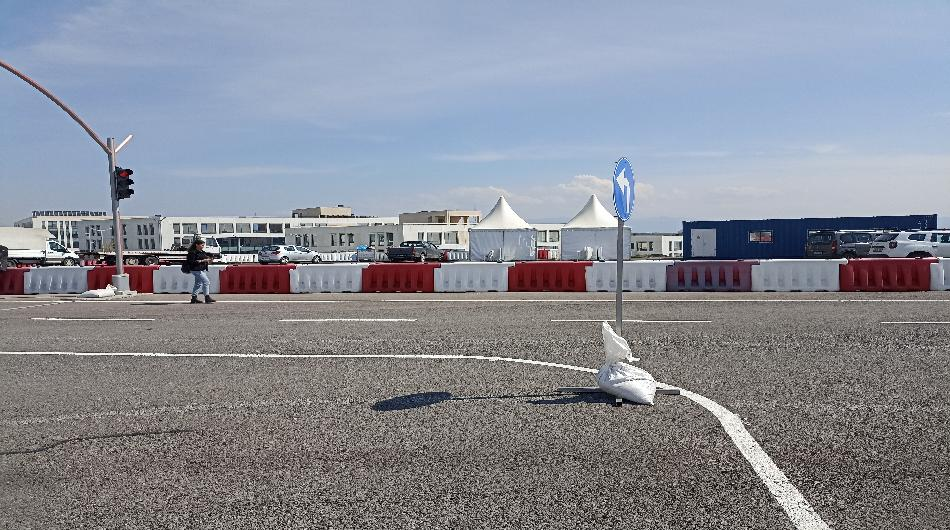sola_mecburi_2: (612, 156, 639, 222)
